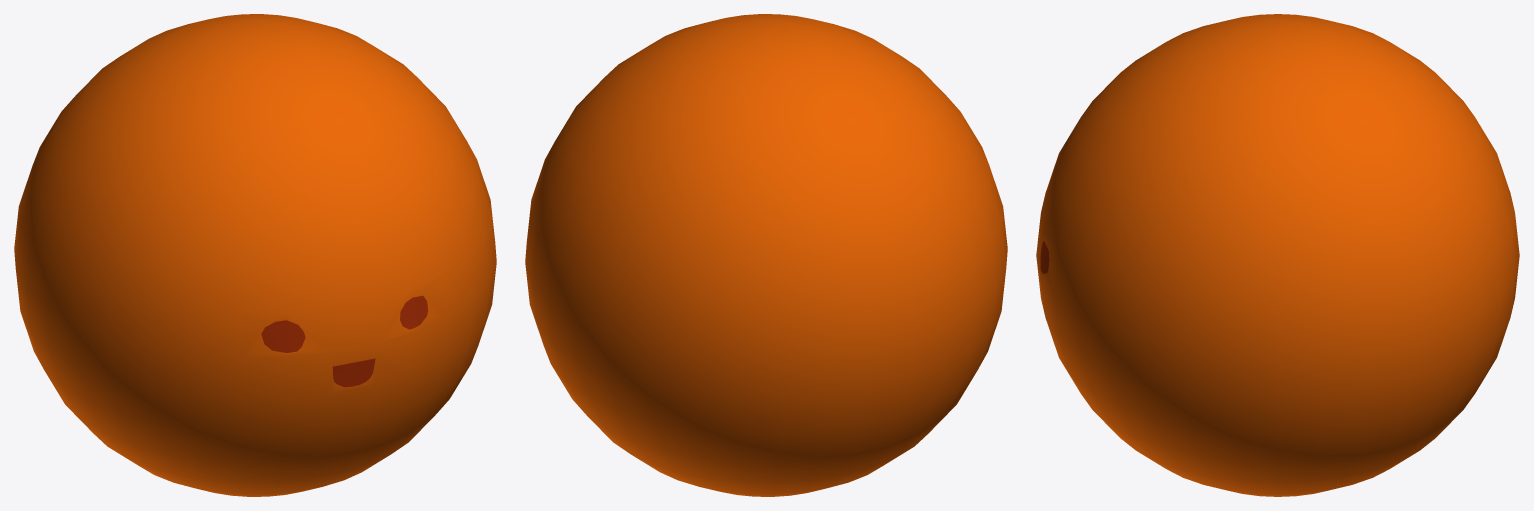
Rendered from Orange.fbx.
The picture shows the model from 3 angles, left to right: view 1: azimuth 30°, elevation 25°; view 2: azimuth 150°, elevation 25°; view 3: azimuth 270°, elevation 25°; orthographic projection.
Visible parts, largest first — view 1: Sphere; view 2: Sphere; view 3: Sphere.
Boxes of the visible parts, x1,y1,x2,y2 form: Sphere: [14, 14, 496, 496]; Sphere: [525, 14, 1007, 496]; Sphere: [1036, 14, 1519, 496].
Size of the model in its own units: 200 by 200 by 200.
